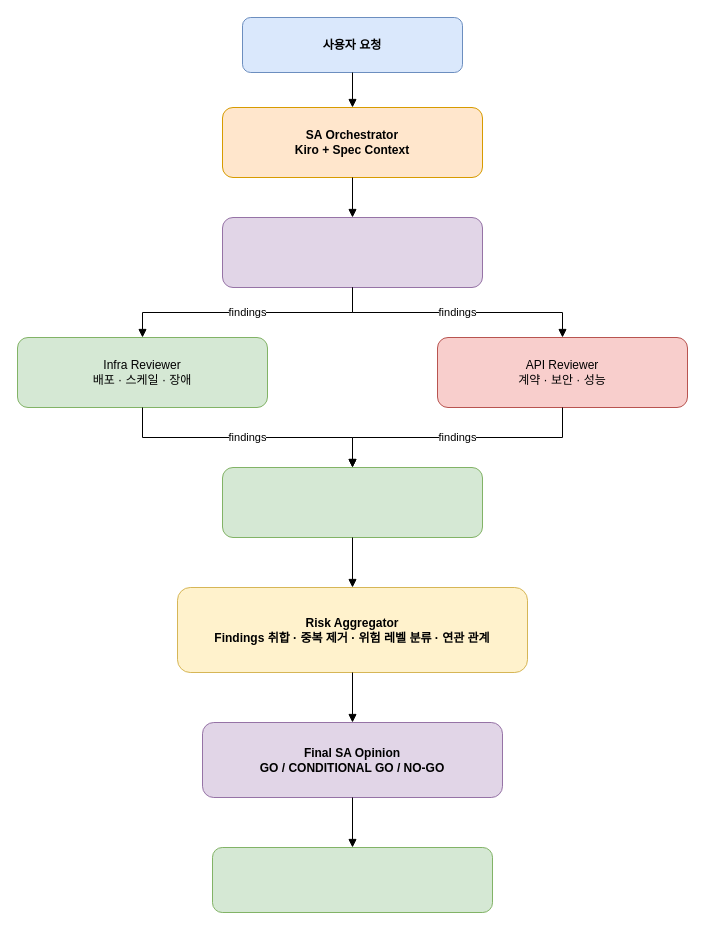
The diagram is 705 pixels wide and 930 high, and some of its shapes have lost their labels. The shapes that lost their labels are listed below. From the top down, each one's centre as x and y in pixels, then its label:
At point 352,252: "Architecture Reviewer 구조 · 설계 · SPOF".
At point 352,502: "DB Reviewer 스키마 · 쿼리 · 트랜잭션".
At point 352,879: "Architecture Review Report".
